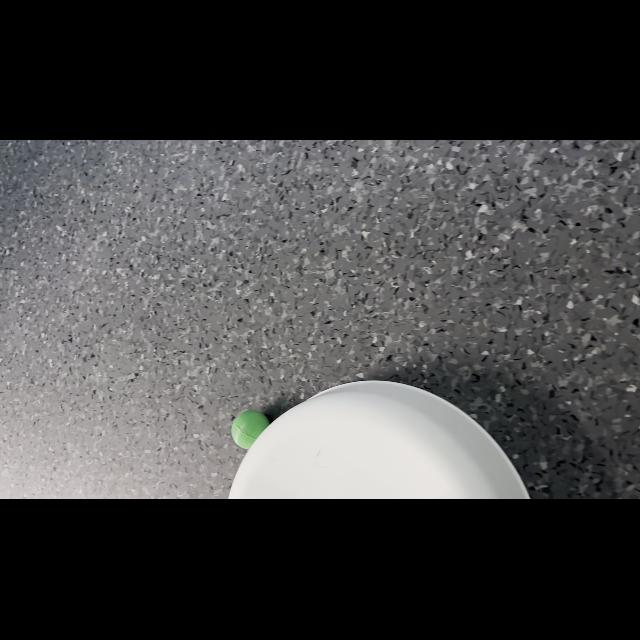objects: (227, 404, 270, 451)
